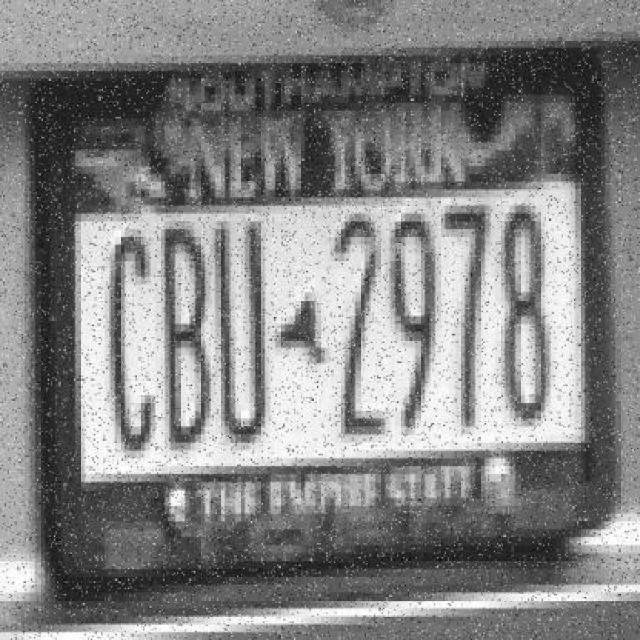licenseplate: (19, 39, 633, 583)
